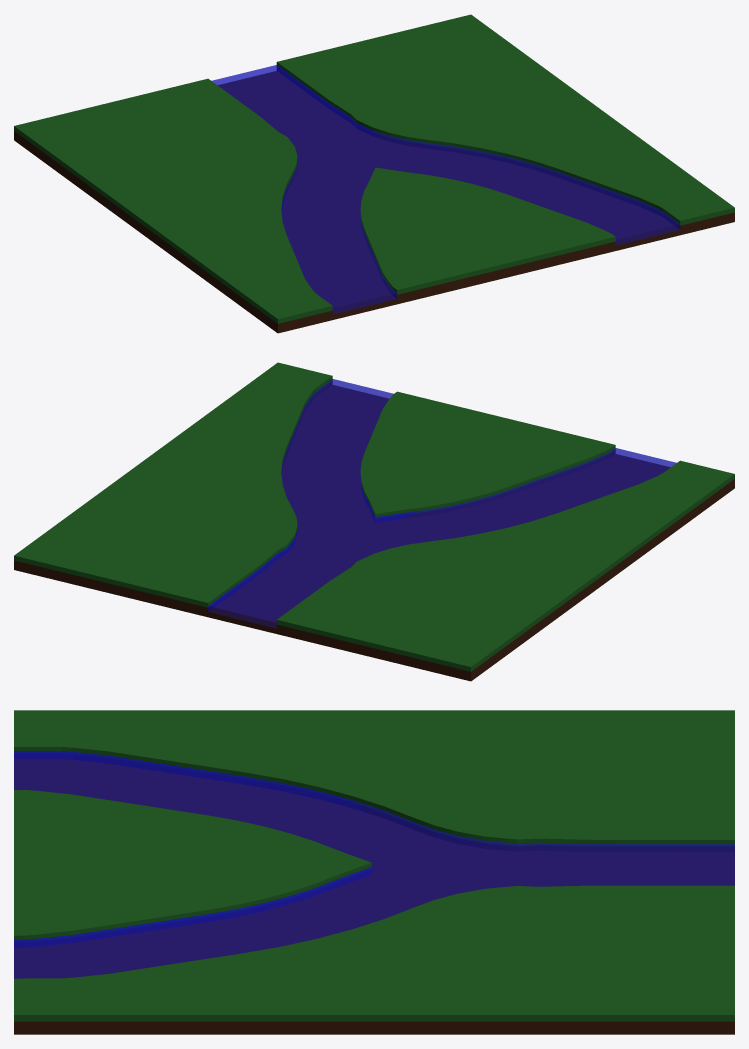
File: Split River (Open).FBX
The picture shows the model from 3 angles, top to bottom: view 1: azimuth 30°, elevation 25°; view 2: azimuth 150°, elevation 25°; view 3: azimuth 270°, elevation 25°; orthographic projection. The views are drawn at different scales.
Visible parts, largest first — view 1: Grass, Ground, Water; view 2: Grass, Ground, Water; view 3: Grass, Ground, Water.
Part boxes in pixels (x1,y1,x2,y2): Grass: (14, 14, 734, 323); Ground: (14, 67, 734, 333); Water: (211, 65, 680, 314); Grass: (14, 362, 734, 671); Ground: (14, 381, 734, 681); Water: (208, 379, 676, 628); Grass: (14, 710, 734, 1021); Ground: (14, 753, 734, 1034); Water: (14, 751, 734, 978).
Size of the model in its own units: 200 by 6 by 200.
